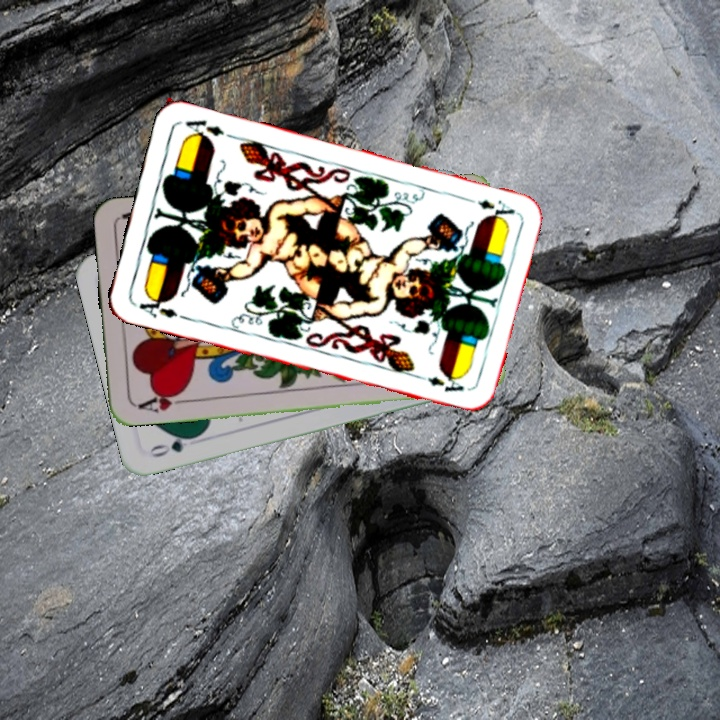EA: (460, 193, 518, 223), (135, 291, 180, 321)
GO: (145, 431, 202, 460)
HA: (131, 386, 190, 416)
